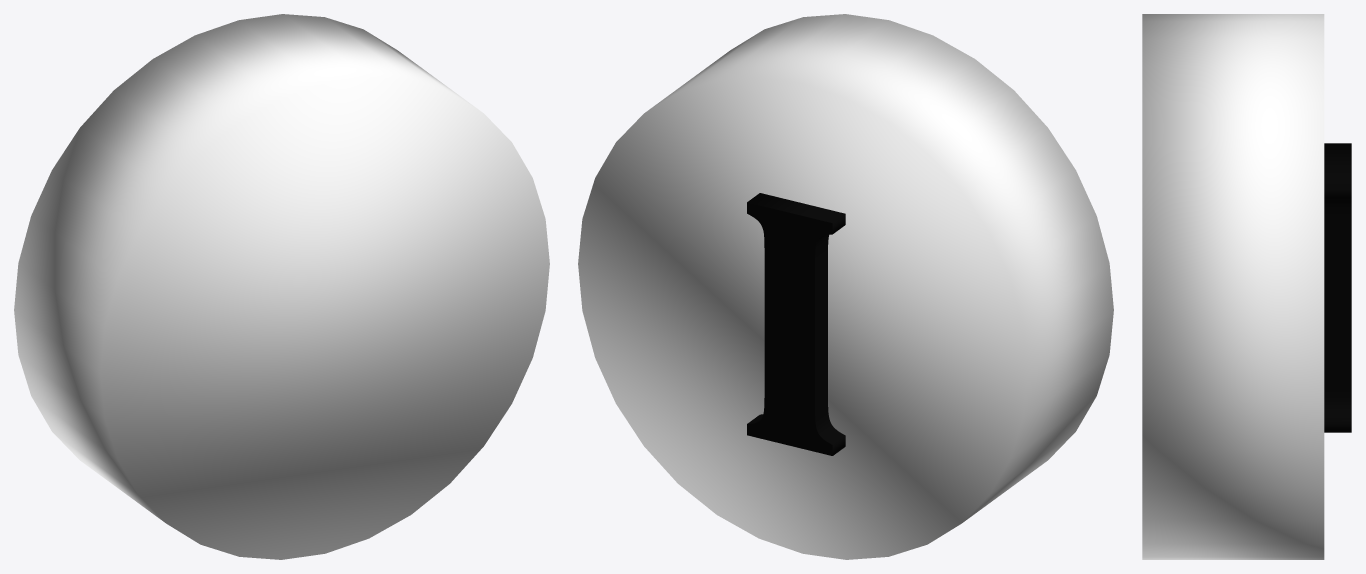
File: stage1.obj
3 renders of one model, left to right at view 1: azimuth 30°, elevation 25°; view 2: azimuth 150°, elevation 25°; view 3: azimuth 270°, elevation 25°, orthographic. The views are drawn at different scales.
Parts seen in each view (by area): view 1: 円柱.001; view 2: 円柱.001; view 3: 円柱.001.
Part boxes in pixels (left/top/right/bottom): 円柱.001: left=14, top=14, right=549, bottom=559; 円柱.001: left=578, top=14, right=1113, bottom=559; 円柱.001: left=1142, top=14, right=1351, bottom=559.
Bounding box in the file's own units: 6 × 6 × 2.3.
Materials: 1 (1 with a texture image).
